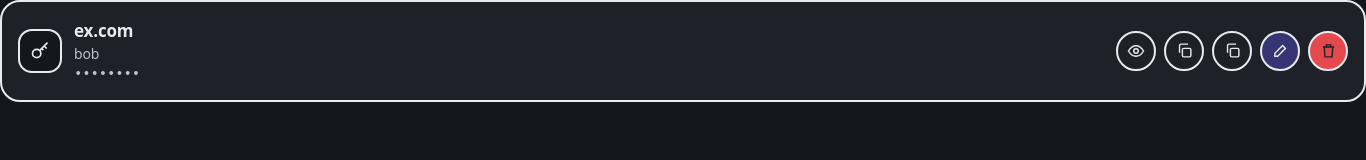
Test: VaultItemCard › copies the password via the clipboard and shows a hint
Click the button named "copy password": (1232, 51) [1212,31,1252,71]
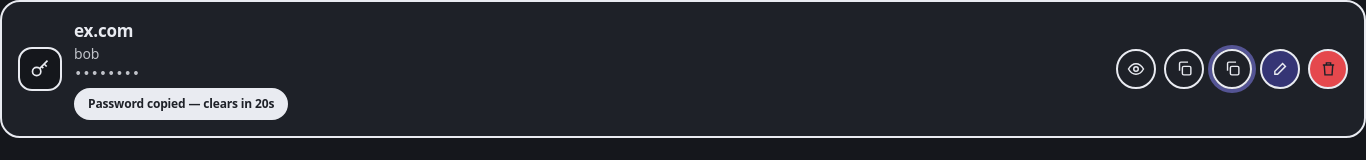
Now the text "Password copied — clears in 20s" is shown, box [74,88,288,120]
